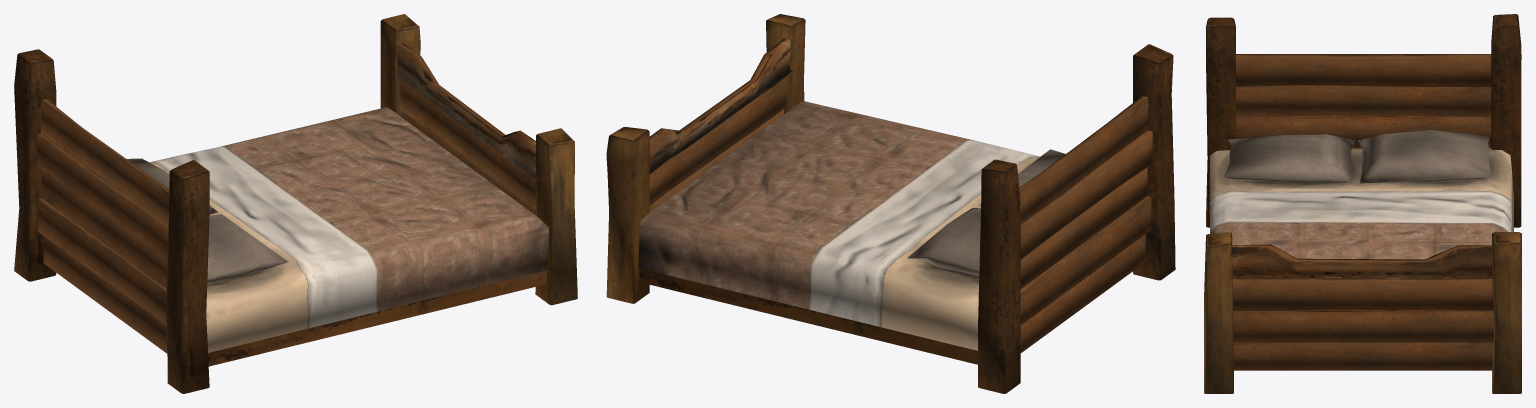
Rendered from Bed.obj.
The picture shows the model from 3 angles, left to right: view 1: azimuth 30°, elevation 25°; view 2: azimuth 150°, elevation 25°; view 3: azimuth 270°, elevation 25°; orthographic projection. The views are drawn at different scales.
Parts seen in each view (by area): view 1: bed; view 2: bed; view 3: bed.
Part boxes in pixels (<box>): bed: <box>14,14,577,393</box>; bed: <box>606,14,1175,393</box>; bed: <box>1204,14,1521,393</box>.
Size of the model in its own units: 19.62 by 10.3 by 14.67.
Materials: 1 (1 with a texture image).
